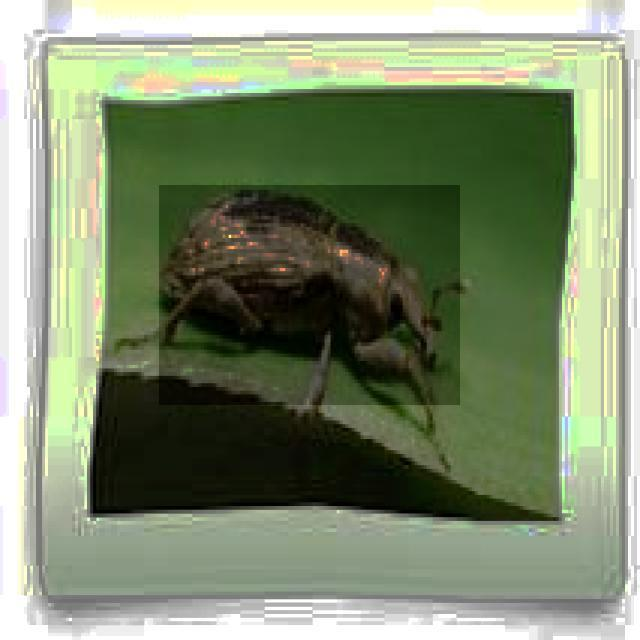rice-bug: (159, 185, 460, 405)
